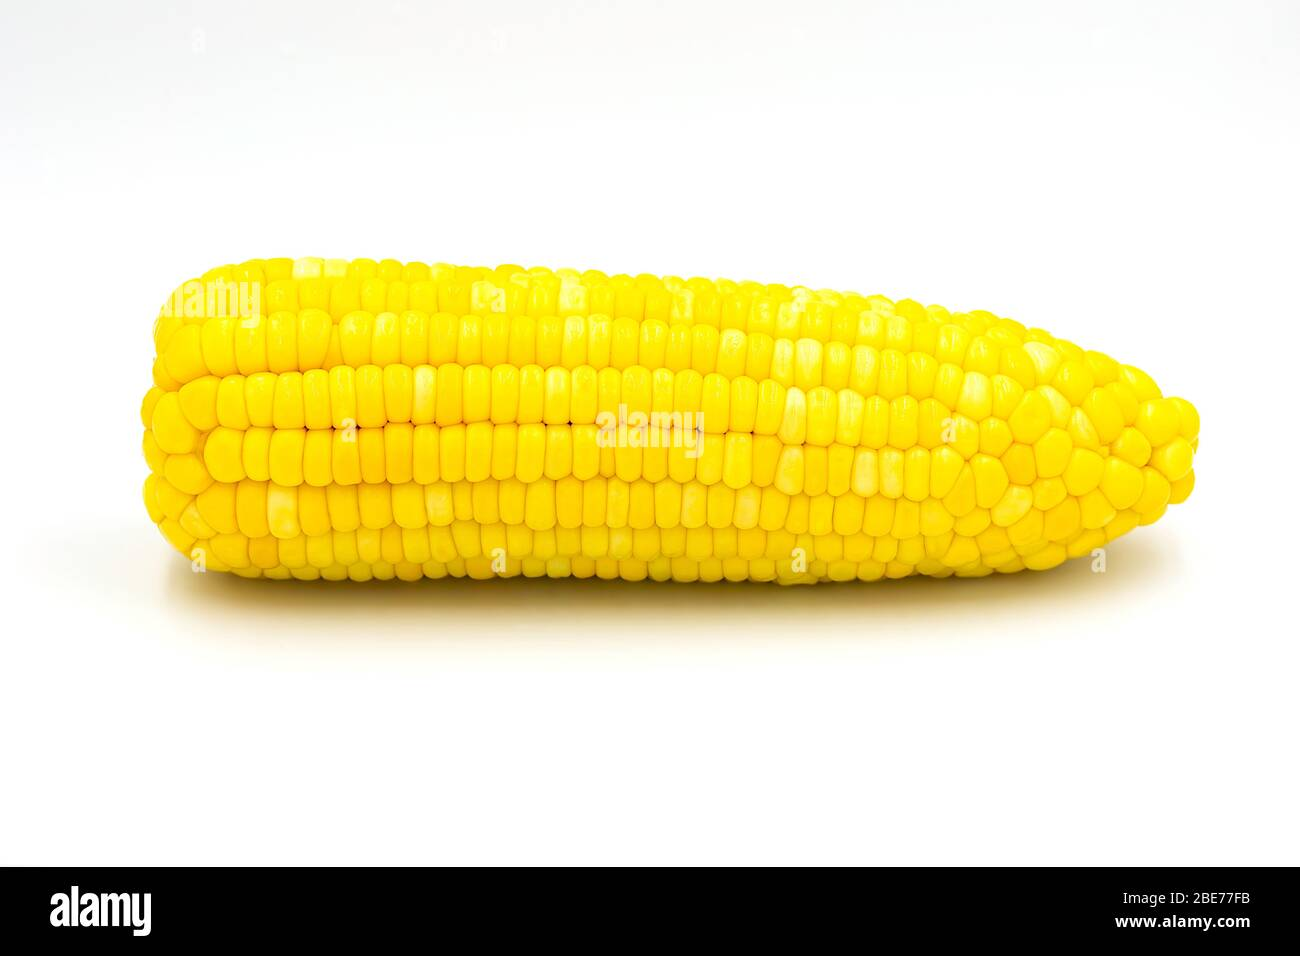corn: (105, 233, 1222, 668)
